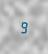nine: (19, 19, 26, 34)
